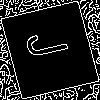J: (25, 25, 79, 62)
